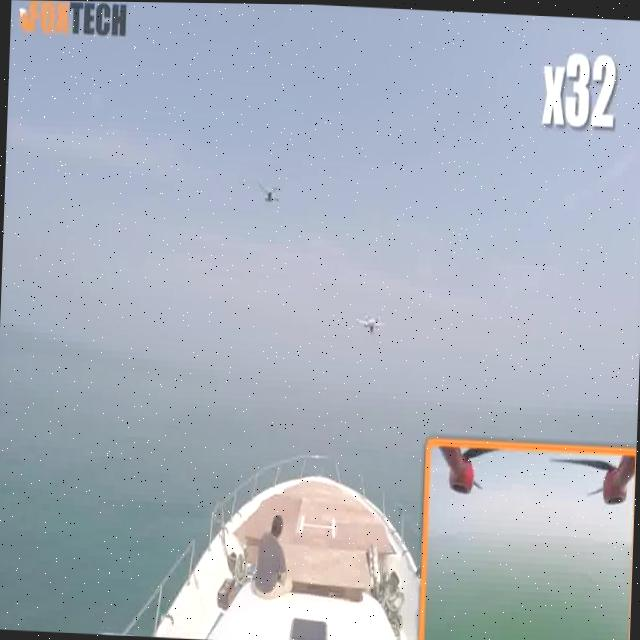drone: (248, 166, 282, 213), (349, 301, 382, 341)
